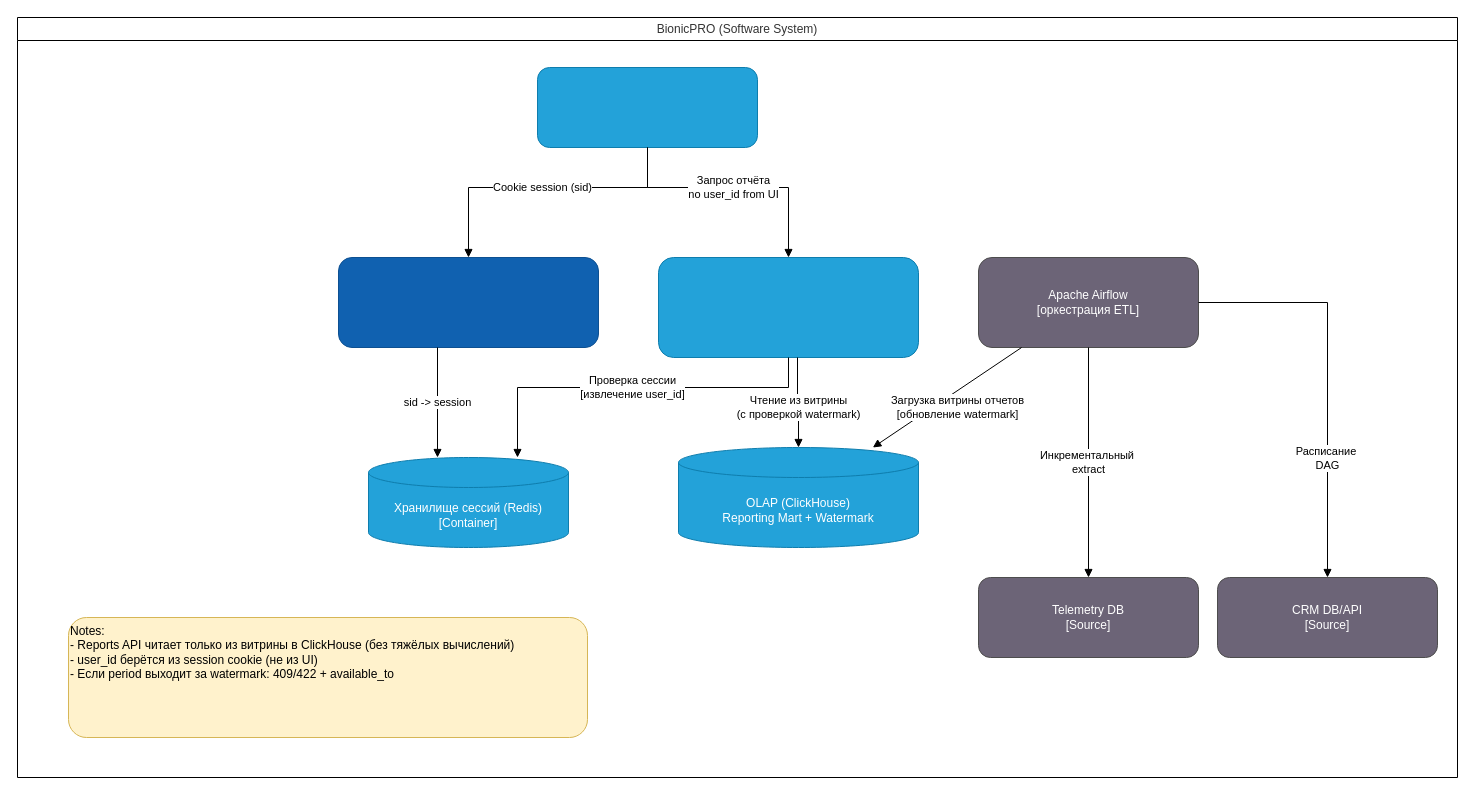
This 1475x795 diagram has some shape labels left out. Here are the shapes that lost their labels. From the top down, the centre of each, then its label:
the point at 647,107: Frontend SPA [Container]
the point at 468,302: bionicpro-auth [Container: session cookie]
the point at 788,307: Reports API GET /reports user_id из сессии
